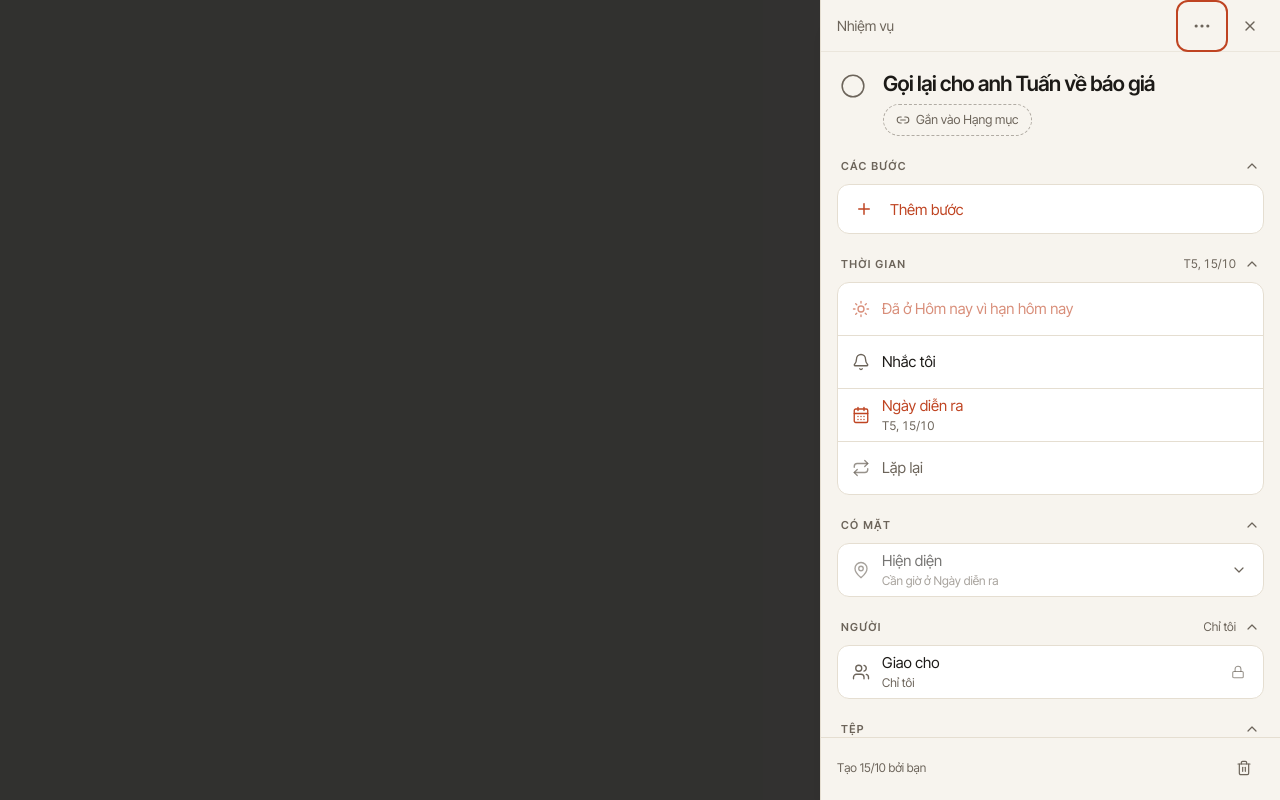
Test: L.3 · khác nơi: lời từ chối nói việc thuộc đâu
The image size is (1280, 800).
Click the button "Gắn vào Hạng mục": (957,120) 883,104 -> 1032,136
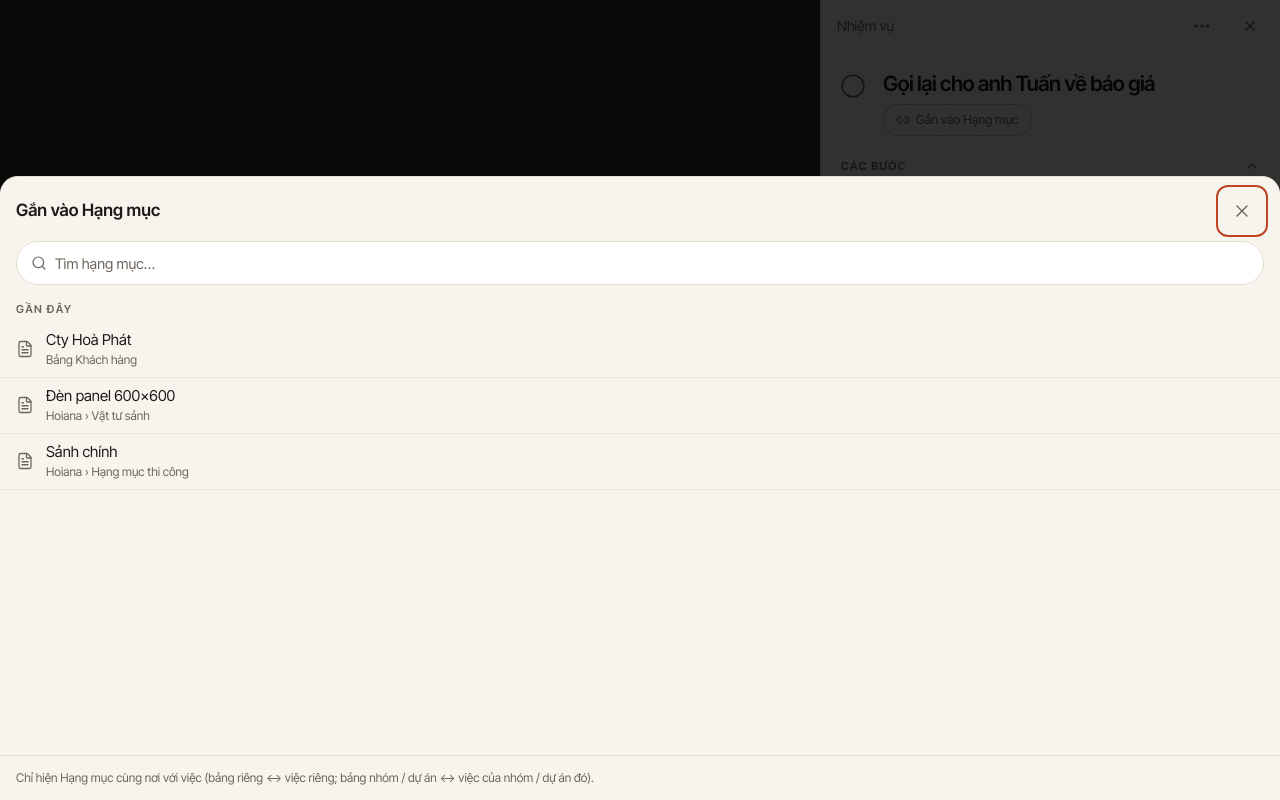
Click the button "Sảnh chính Hoiana › Hạng mục thi công": (82,451) 0,434 -> 1279,490
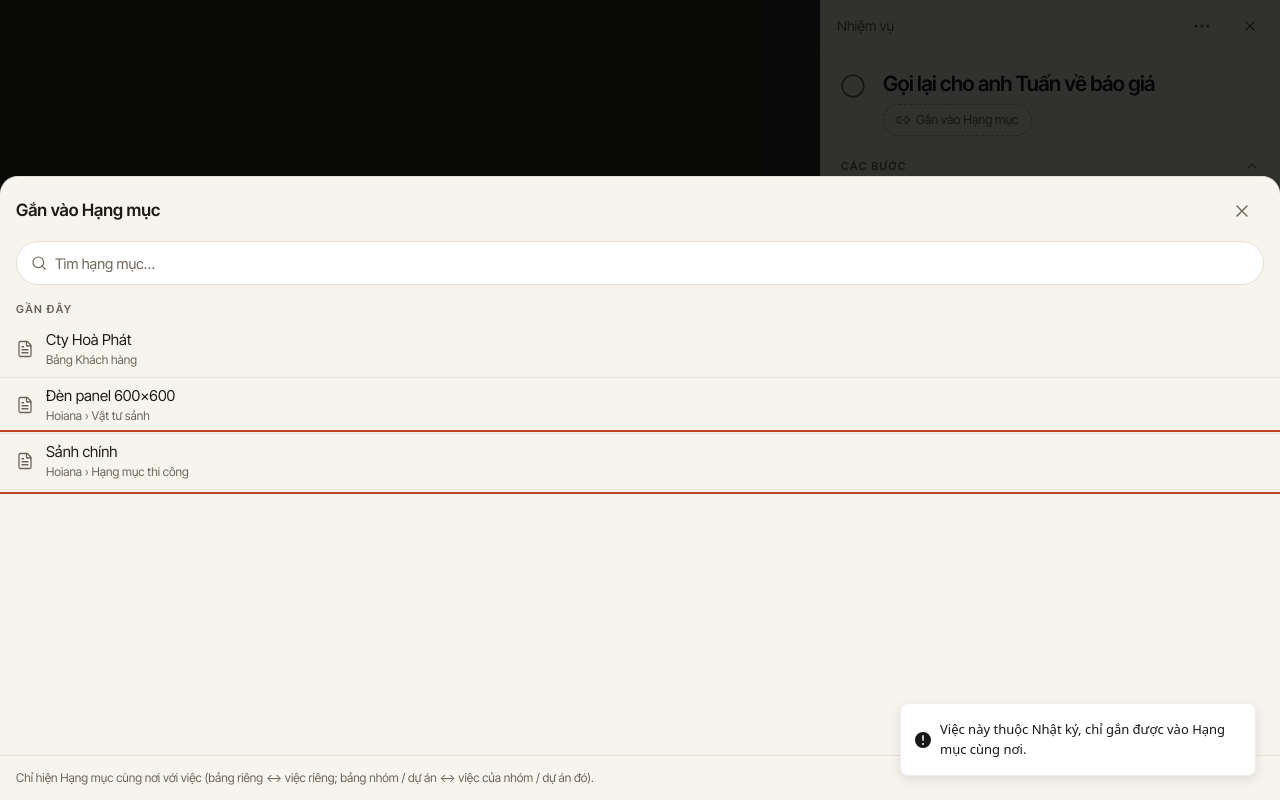
Expected: the text "Việc này thuộc Nhật ký, chỉ gắn được vào Hạng mục cùng nơi." is shown, 940,720 -> 1239,759
